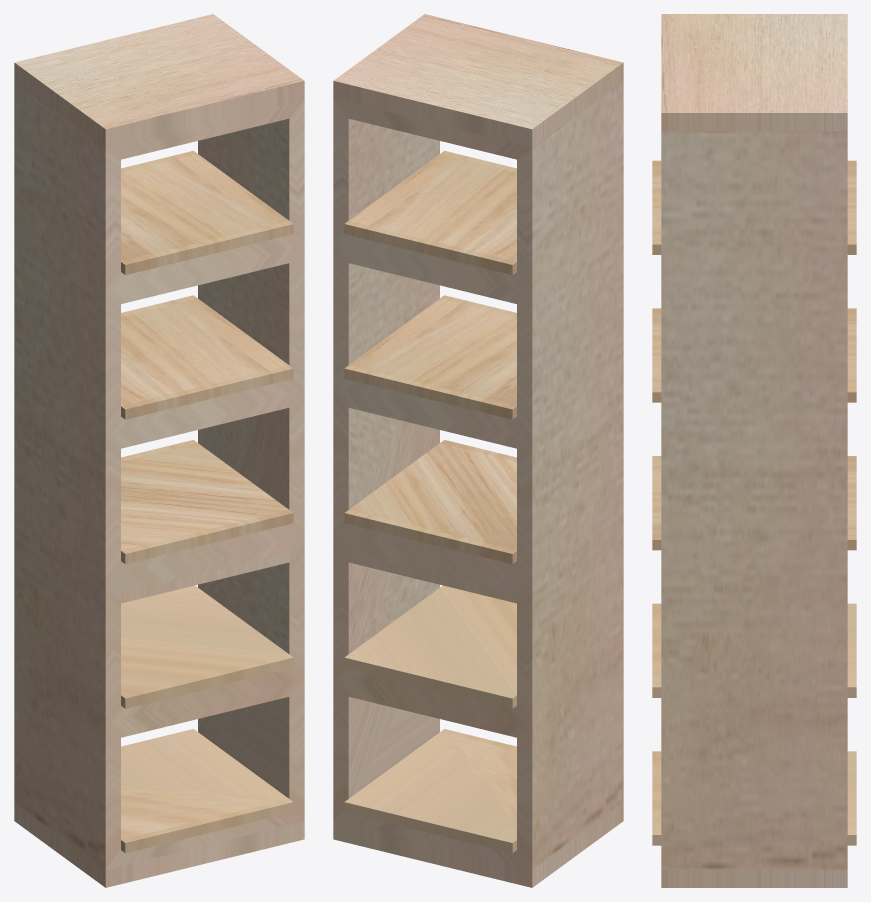
File: locker.FBX
The picture shows the model from 3 angles, left to right: view 1: azimuth 30°, elevation 25°; view 2: azimuth 150°, elevation 25°; view 3: azimuth 270°, elevation 25°; orthographic projection. The views are drawn at different scales.
Parts seen in each view (by area): view 1: Box001, Object001; view 2: Box001, Object001; view 3: Box001, Object001.
Boxes of the visible parts, bbox=[...] form: Box001: bbox=[14, 14, 304, 887]; Object001: bbox=[121, 151, 293, 853]; Box001: bbox=[333, 14, 623, 887]; Object001: bbox=[344, 151, 516, 853]; Box001: bbox=[661, 14, 847, 887]; Object001: bbox=[652, 160, 856, 845].
Size of the model in its own units: 34.61 by 126 by 30.16.
2 materials, 2 textured.
